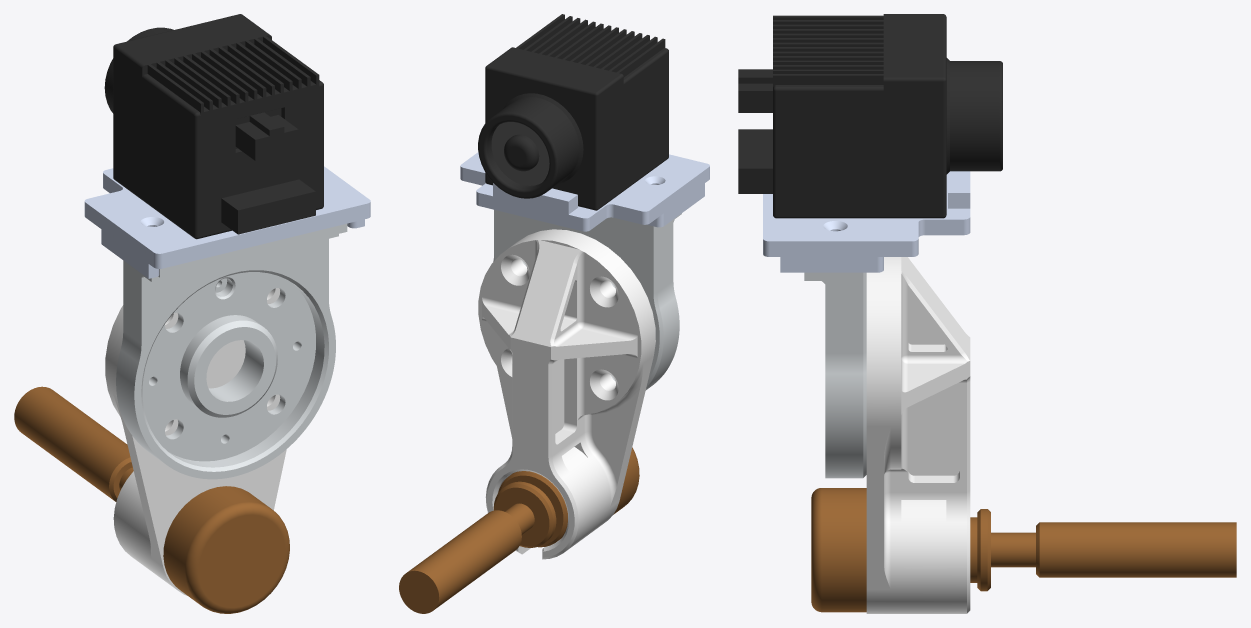
File: endEffector_penzi.dae
3 views of the same model, side by side, from view 1: azimuth 30°, elevation 25°; view 2: azimuth 150°, elevation 25°; view 3: azimuth 270°, elevation 25° (orthographic). The views are drawn at different scales.
Parts seen in each view (by area): view 1: __________-____ (×2), DS-2TA03-4AUM____, __, _____-__, ______-___; view 2: _____-__, DS-2TA03-4AUM____, __, __________-____ (×2), ______-___; view 3: DS-2TA03-4AUM____, _____-__, __, __________-____ (×2), ______-___.
Boxes of the visible parts, bbox=[...] form: __________-____ (×2): bbox=[116, 223, 347, 479]; DS-2TA03-4AUM____: bbox=[104, 14, 323, 239]; __: bbox=[14, 386, 289, 613]; _____-__: bbox=[105, 288, 286, 595]; ______-___: bbox=[84, 166, 370, 278]; _____-__: bbox=[478, 229, 655, 559]; DS-2TA03-4AUM____: bbox=[478, 14, 668, 210]; __: bbox=[399, 447, 639, 613]; __________-____ (×2): bbox=[493, 210, 681, 390]; ______-___: bbox=[460, 152, 709, 231]; DS-2TA03-4AUM____: bbox=[738, 14, 1002, 218]; _____-__: bbox=[866, 257, 970, 613]; __: bbox=[811, 488, 1236, 612]; __________-____ (×2): bbox=[804, 272, 866, 478]; ______-___: bbox=[763, 171, 970, 272].
Size of the model in its own units: 75 by 144 by 179.
